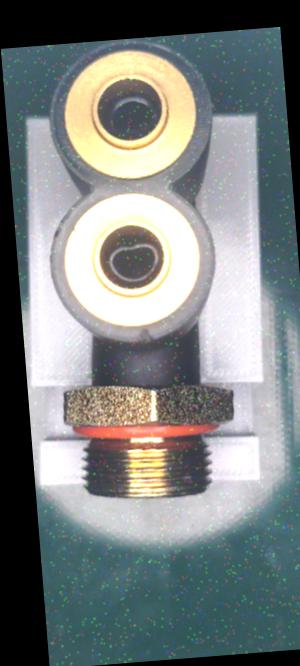bump: (134, 326, 159, 347)
joint line: (138, 351, 148, 385)
off-centered: (101, 233, 169, 287)
